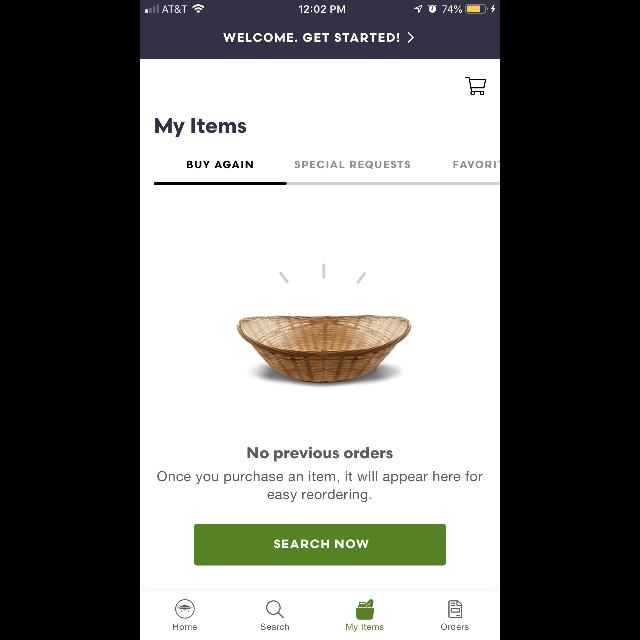icon: (466, 76, 486, 95), (266, 600, 284, 618), (448, 600, 462, 618), (408, 32, 414, 44)
image: (236, 263, 412, 383), (356, 598, 374, 620), (175, 600, 195, 618)
text: (158, 472, 482, 502), (248, 446, 392, 462), (156, 119, 247, 138), (223, 34, 399, 42), (294, 161, 410, 169), (187, 161, 253, 169), (454, 161, 500, 169), (346, 624, 384, 632), (261, 624, 289, 630), (442, 624, 468, 630), (173, 624, 197, 630)
textbutton: (194, 524, 446, 566)
uppertaskbar: (140, 0, 500, 14)
